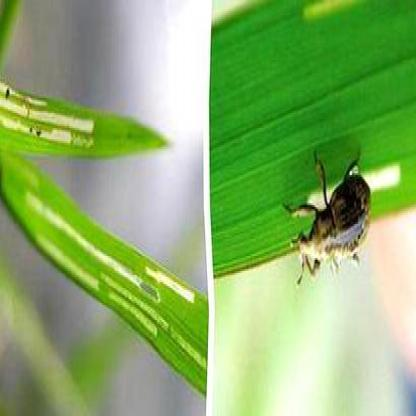rice-bug: (292, 154, 375, 282)
